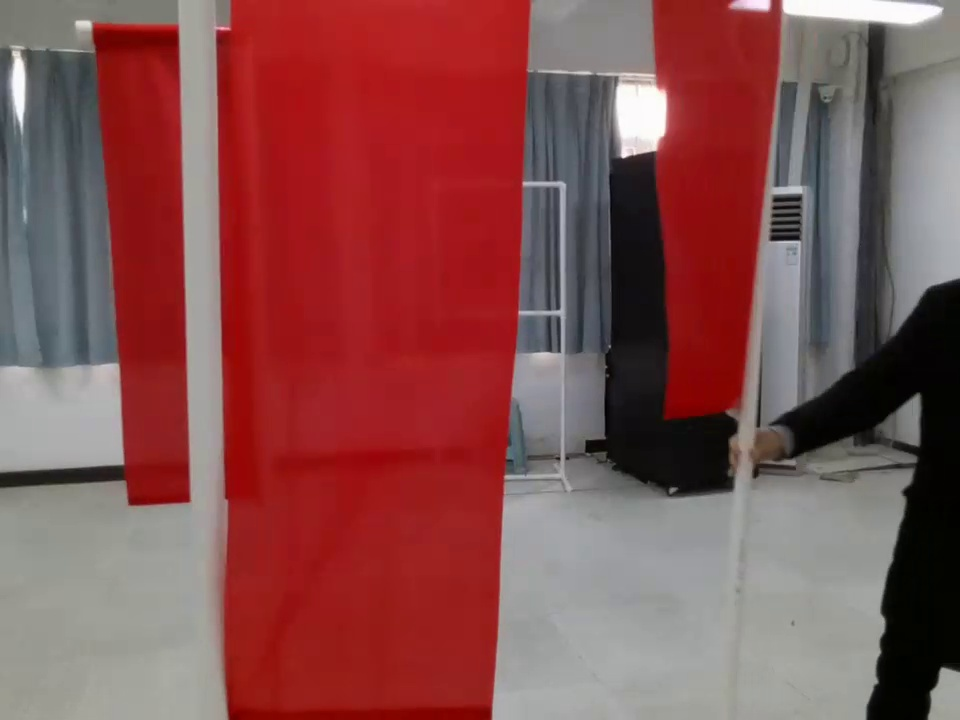qi: (175, 1, 504, 720), (76, 19, 250, 504), (645, 3, 785, 471)
